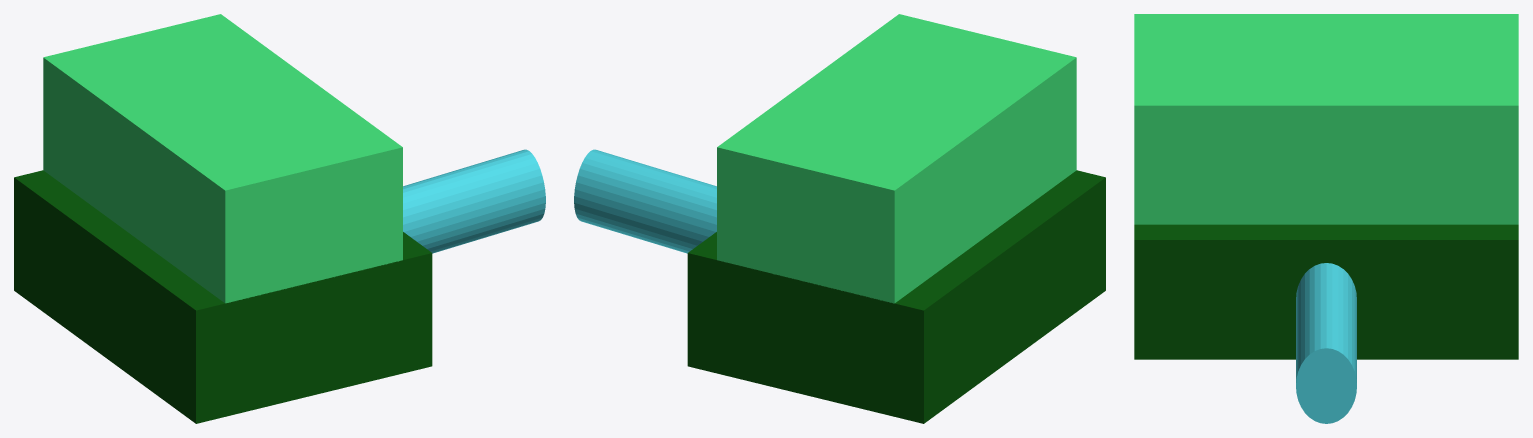
Rendered from Tank.fbx.
3 views of the same model, side by side, from view 1: azimuth 30°, elevation 25°; view 2: azimuth 150°, elevation 25°; view 3: azimuth 270°, elevation 25° (orthographic). The views are drawn at different scales.
Parts seen in each view (by area): view 1: 円柱; view 2: 円柱; view 3: 円柱.
Part boxes in pixels (box(x1,y1,x2,y2)): 円柱: box(14, 14, 545, 423); 円柱: box(574, 14, 1105, 423); 円柱: box(1134, 14, 1518, 423).
Size of the model in its own units: 7.9 by 3.99 by 5.82.
